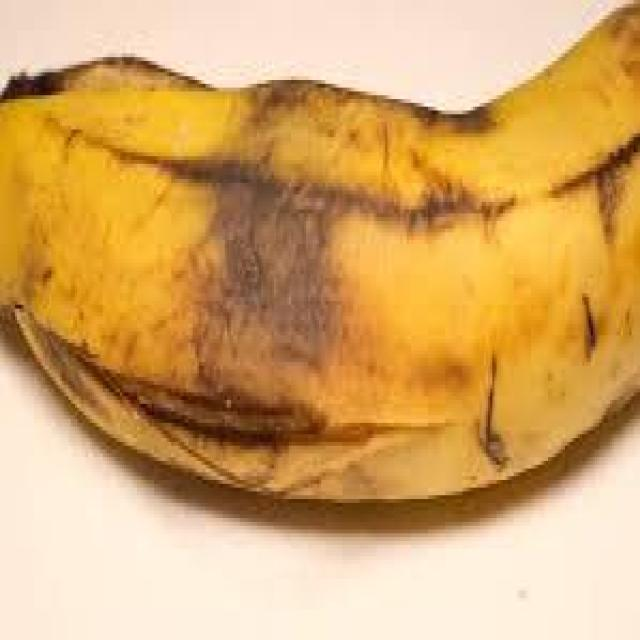Overripe: (0, 11, 640, 532)
